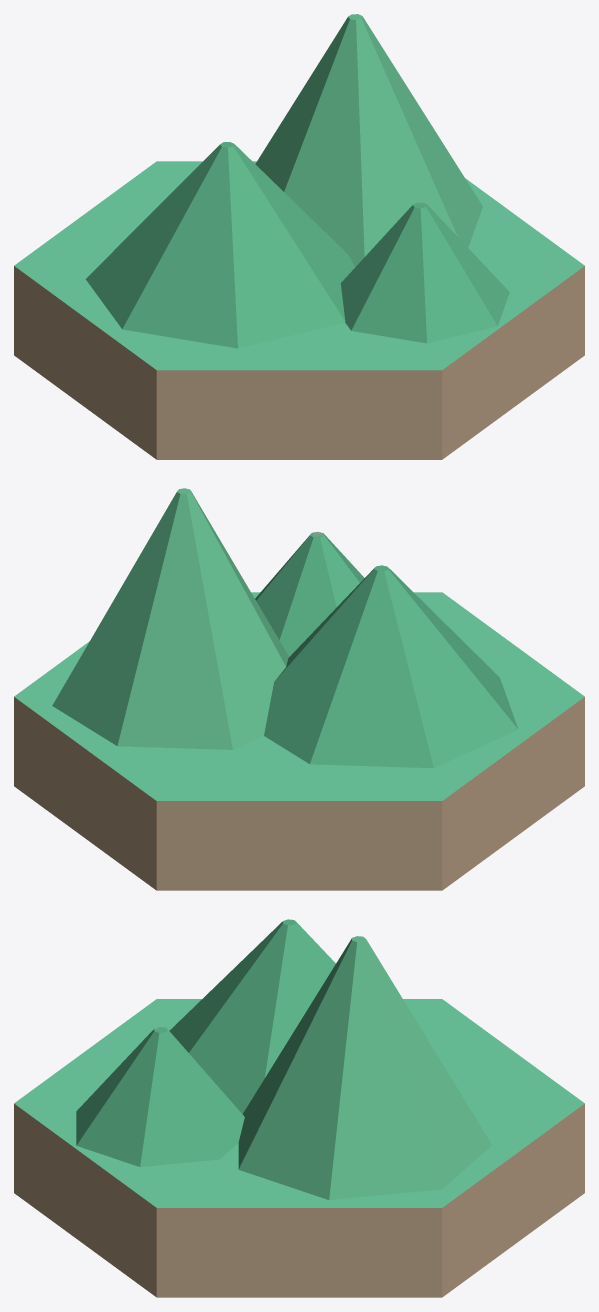
The model's file is mountain-small-2.glb.
3 renders of one model, top to bottom at view 1: azimuth 30°, elevation 25°; view 2: azimuth 150°, elevation 25°; view 3: azimuth 270°, elevation 25°, orthographic.
Parts seen in each view (by area): view 1: mountain_hex_base, slope_0, slope_1, slope_2; view 2: mountain_hex_base, slope_1, slope_0, slope_2; view 3: mountain_hex_base, slope_1, slope_2, slope_0.
Boxes of the visible parts, x1,y1,x2,y2 form: mountain_hex_base: (14,161,584,459); slope_0: (85,142,355,348); slope_1: (255,14,482,266); slope_2: (340,202,509,343); mountain_hex_base: (14,592,584,890); slope_1: (52,488,288,749); slope_0: (264,565,518,768); slope_2: (255,532,364,656); mountain_hex_base: (14,999,584,1297); slope_1: (238,936,491,1200); slope_2: (76,1027,244,1167); slope_0: (169,919,335,1113).
Size of the model in its own units: 1 by 0.66 by 1.15.
